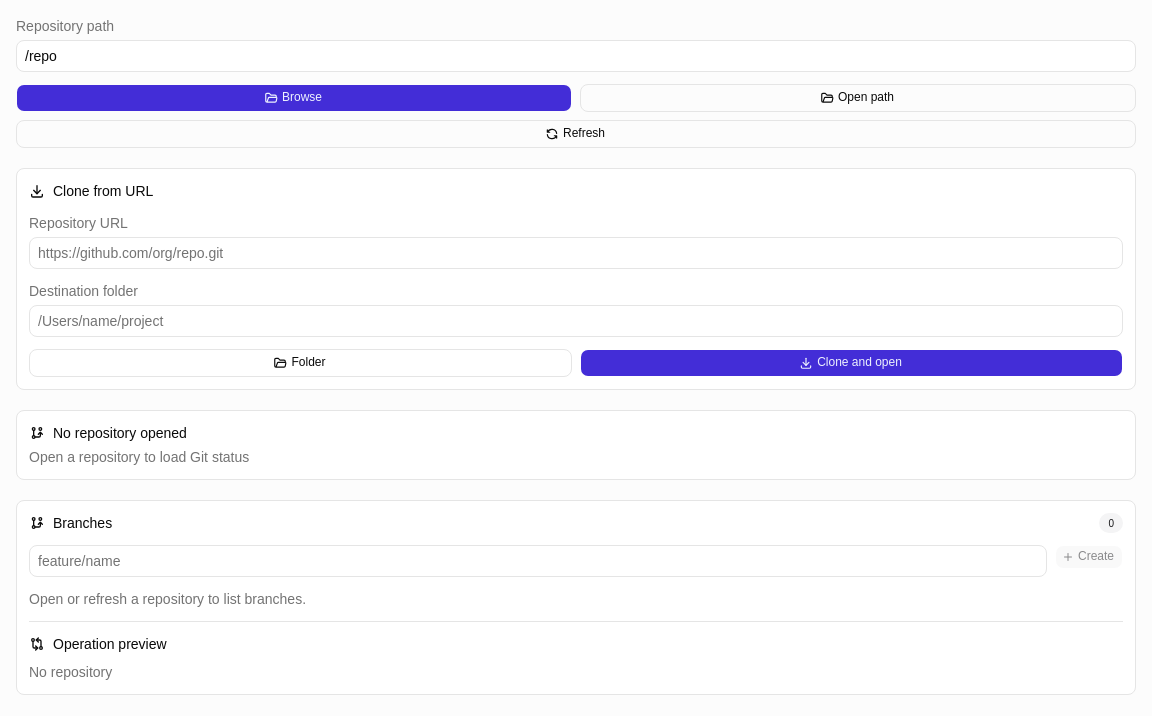
Scenario: App repository health › opens a repository selected with the native folder picker
Click the button "Browse" at (294, 98), box [16, 84, 572, 112]
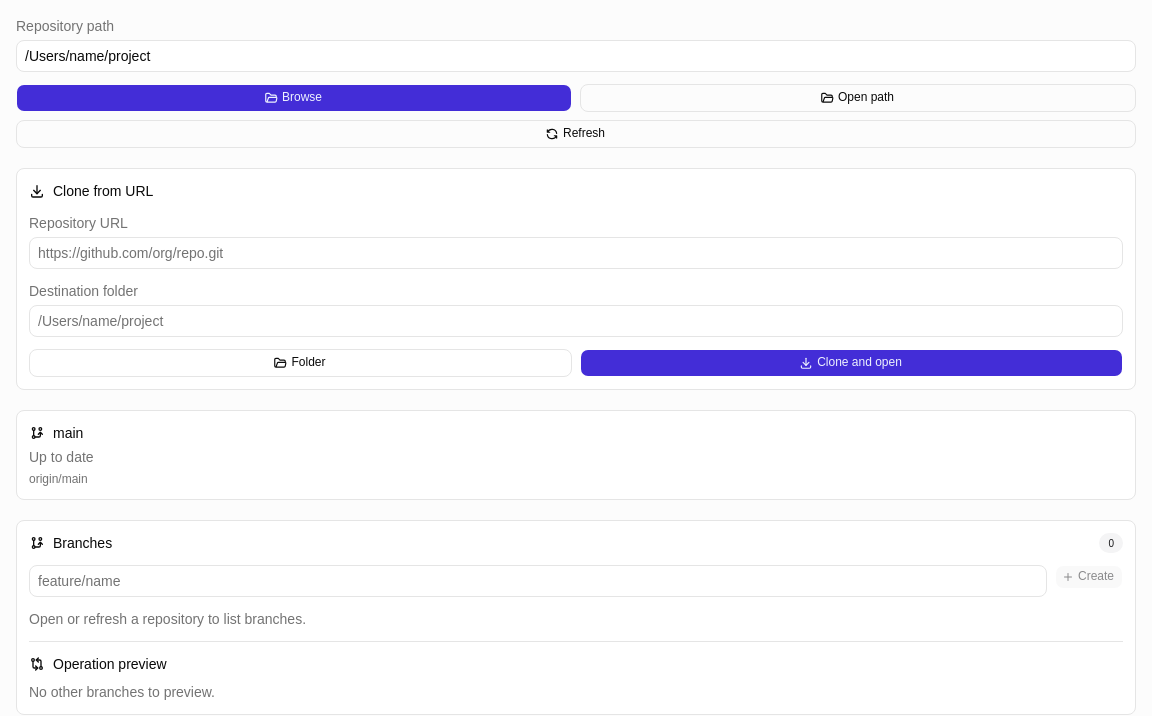
Expected: the field with id "repository-path" holds "/Users/name/project", [16, 40, 1136, 72]
Expected: the text "main" is shown, [53, 423, 83, 443]
